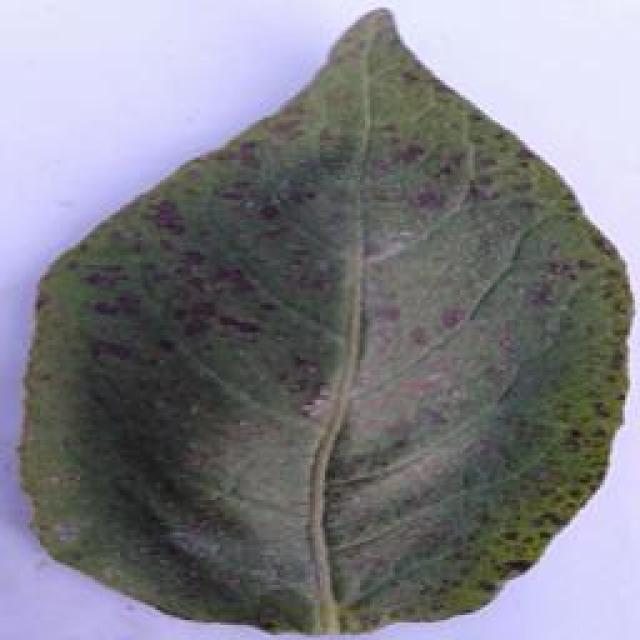Potato_Early_Blight: (12, 5, 640, 640)
